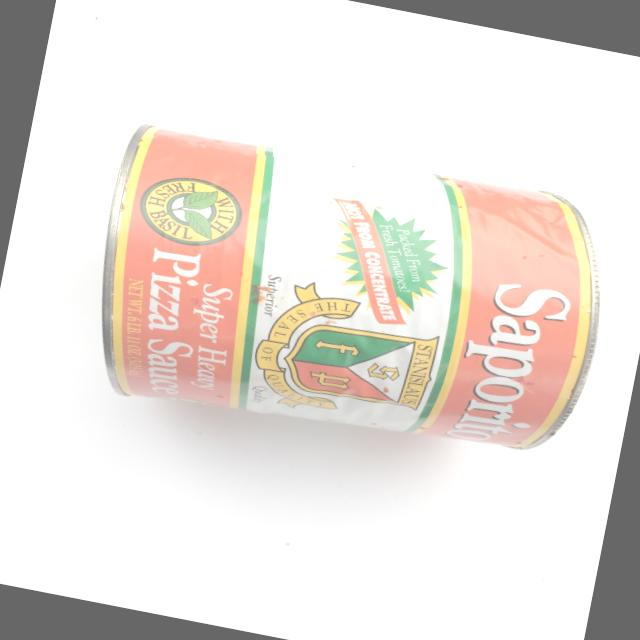Metal: (64, 80, 636, 497)
